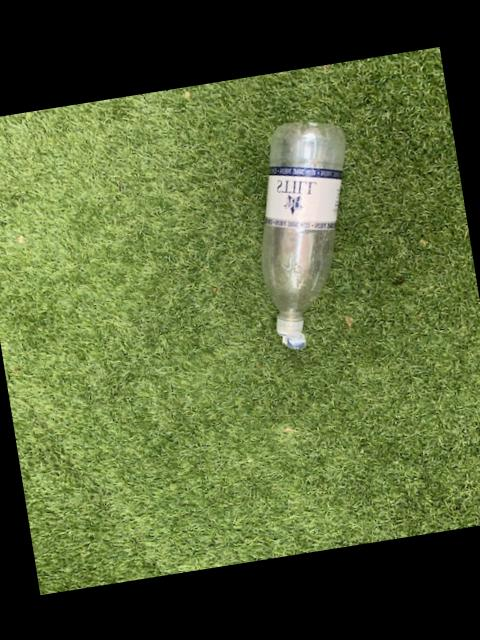plastic: (261, 120, 344, 346)
